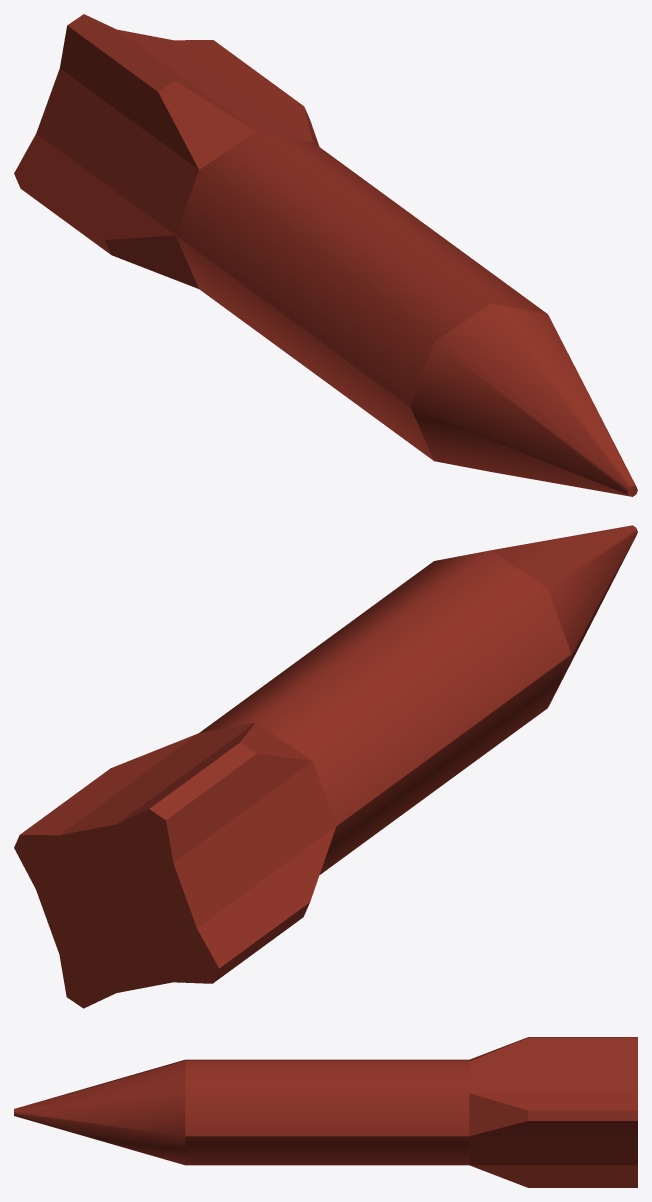
The model's file is Rocket01.FBX.
The picture shows the model from 3 angles, top to bottom: view 1: azimuth 30°, elevation 25°; view 2: azimuth 150°, elevation 25°; view 3: azimuth 270°, elevation 25°; orthographic projection. The views are drawn at different scales.
Visible parts, largest first — view 1: Rocket01; view 2: Rocket01; view 3: Rocket01.
Part boxes in pixels (x1,y1,x2,y2): Rocket01: (14,14,637,496); Rocket01: (14,525,637,1008); Rocket01: (14,1037,637,1187).
Bounding box in the file's own units: 41.86 × 182 × 42.03.
